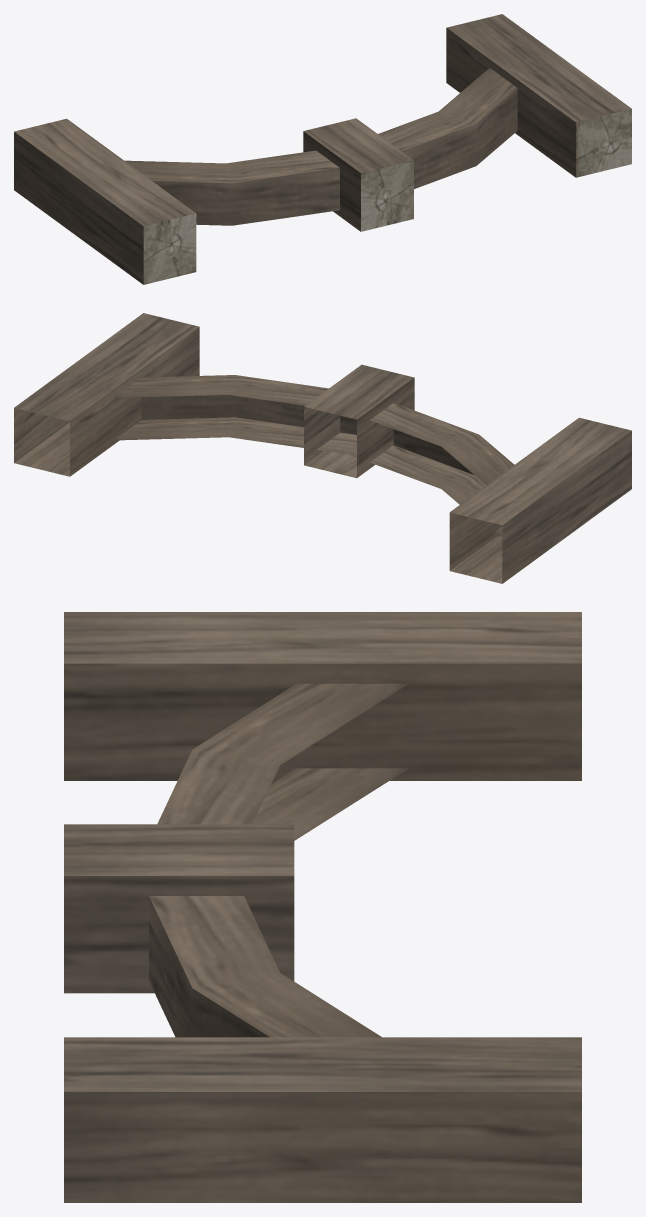
File: Keg_A_Stand.fbx
3 views of the same model, one above another, from view 1: azimuth 30°, elevation 25°; view 2: azimuth 150°, elevation 25°; view 3: azimuth 270°, elevation 25° (orthographic). The views are drawn at different scales.
Parts seen in each view (by area): view 1: Keg_A_Stand; view 2: Keg_A_Stand; view 3: Keg_A_Stand.
Part boxes in pixels (x1,y1,x2,y2): Keg_A_Stand: [14, 14, 631, 284]; Keg_A_Stand: [14, 313, 631, 583]; Keg_A_Stand: [64, 612, 581, 1202].
Size of the model in its own units: 1.56 by 0.179 by 0.7169.
